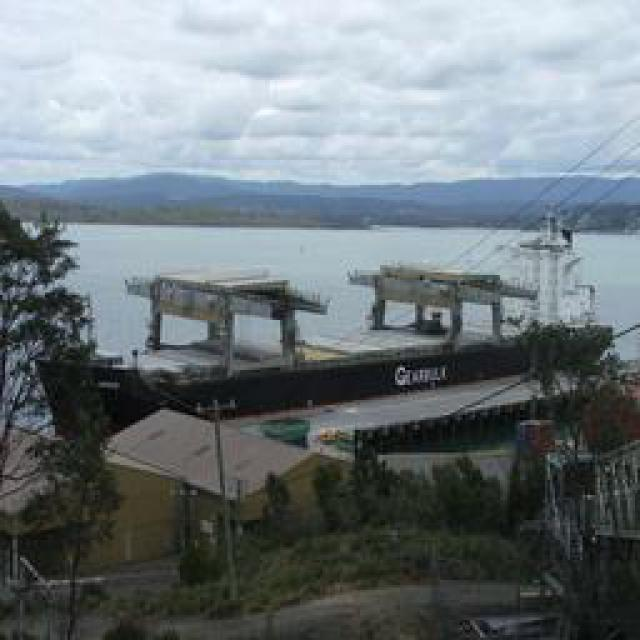Ship: (126, 266, 529, 419)
